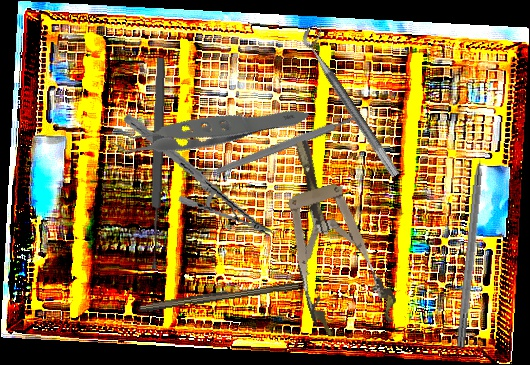Fixation Ring: (298, 22, 412, 179)
Hook Surgical: (455, 135, 490, 349)
Needle Holder: (107, 112, 289, 239)
Scalpel Handle: (215, 113, 360, 176), (138, 277, 300, 315)
Speculum: (261, 128, 402, 344)
Surgical Spoon: (146, 57, 168, 270)
Tissue Forceps: (95, 39, 311, 214)
